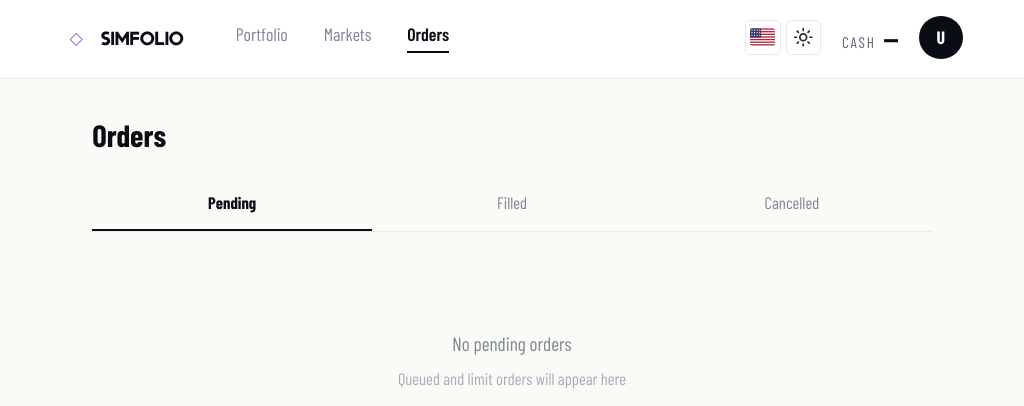
Scenario: OrdersMobile › shows empty states without data
This screenshot has width=1024, height=406.
Click the text "Filled" at (512, 202), box [497, 192, 527, 212]
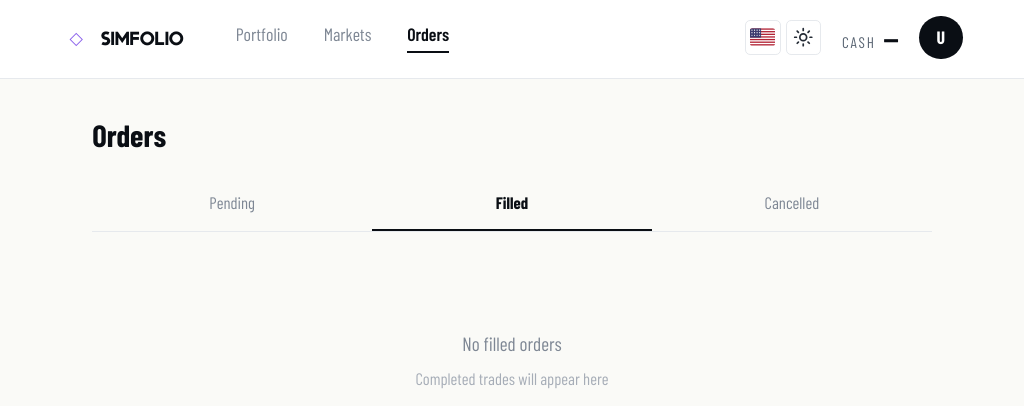
Now the text "No filled orders" is shown, box [462, 332, 562, 354]
